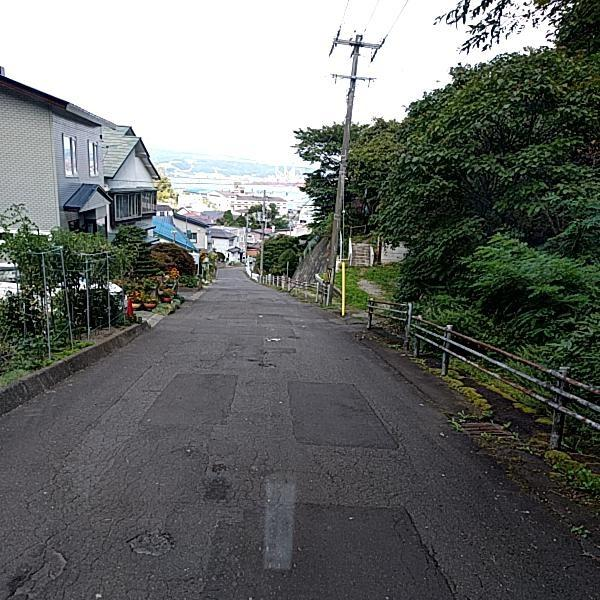pothole: (8, 547, 69, 600), (128, 528, 175, 555)
